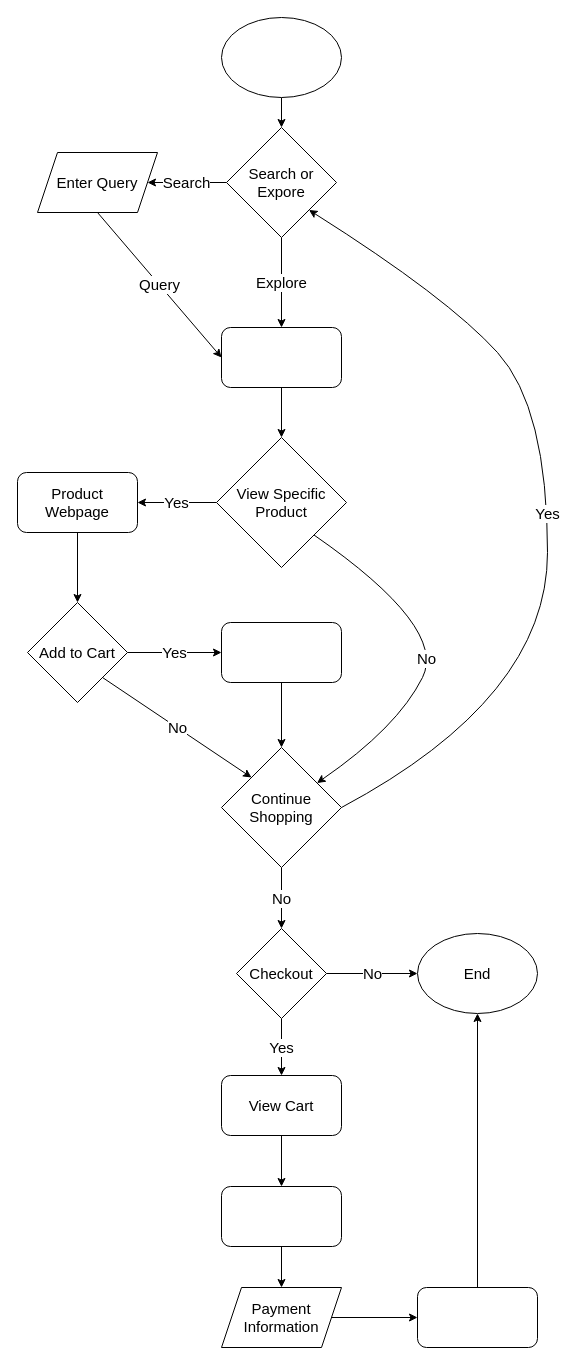
Image size: 577x1365. Some labels were removed from this diagram. Here are the shapes that lost their labels. From the top down, the centre of each, then its label:
At point 281,57: "Start".
At point 281,357: "View Products".
At point 281,652: "Cart Confirmation".
At point 281,1216: "View Payment".
At point 477,1317: "Order Confirmation".
